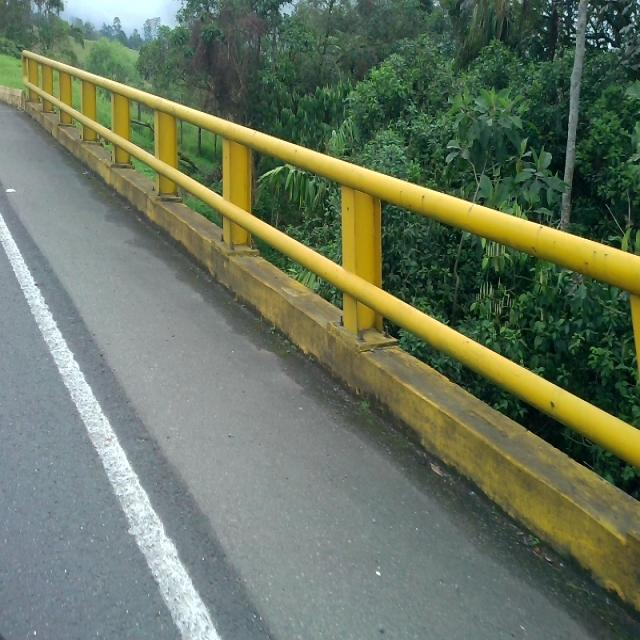DITCH: (1, 94, 638, 638)
